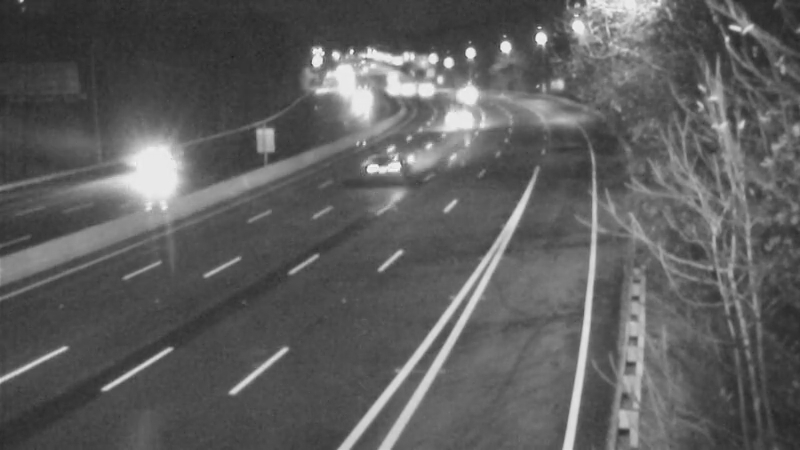vehicle: (345, 129, 425, 209), (123, 119, 203, 199), (387, 63, 437, 113), (369, 62, 419, 112), (400, 63, 450, 113), (436, 73, 486, 123), (435, 96, 485, 146), (335, 74, 385, 124)
